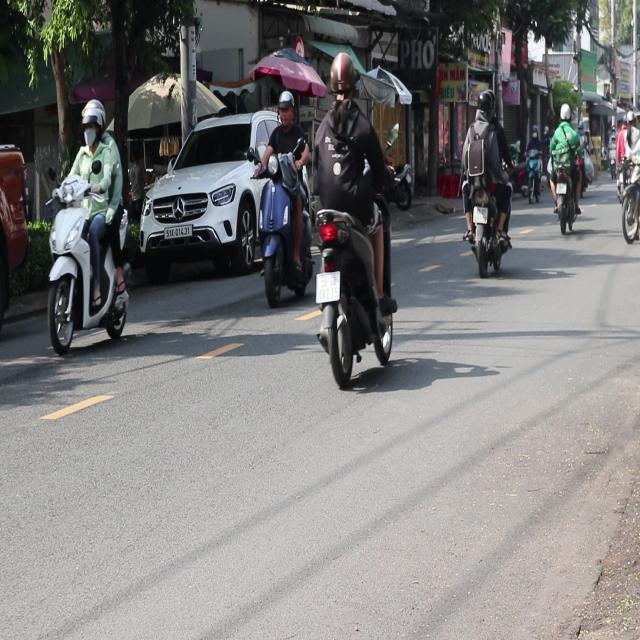helmet: (328, 50, 358, 104), (80, 98, 106, 148), (276, 88, 296, 128), (476, 86, 494, 118)
licenseplate: (309, 47, 399, 387), (44, 95, 133, 355), (256, 87, 313, 307), (459, 84, 513, 276)
nohelmet: (316, 272, 340, 302), (473, 206, 487, 223)
